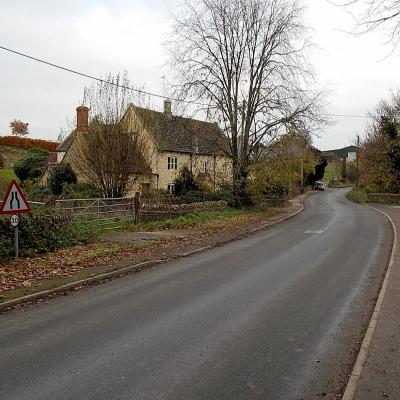clear-road: (0, 190, 392, 400)
